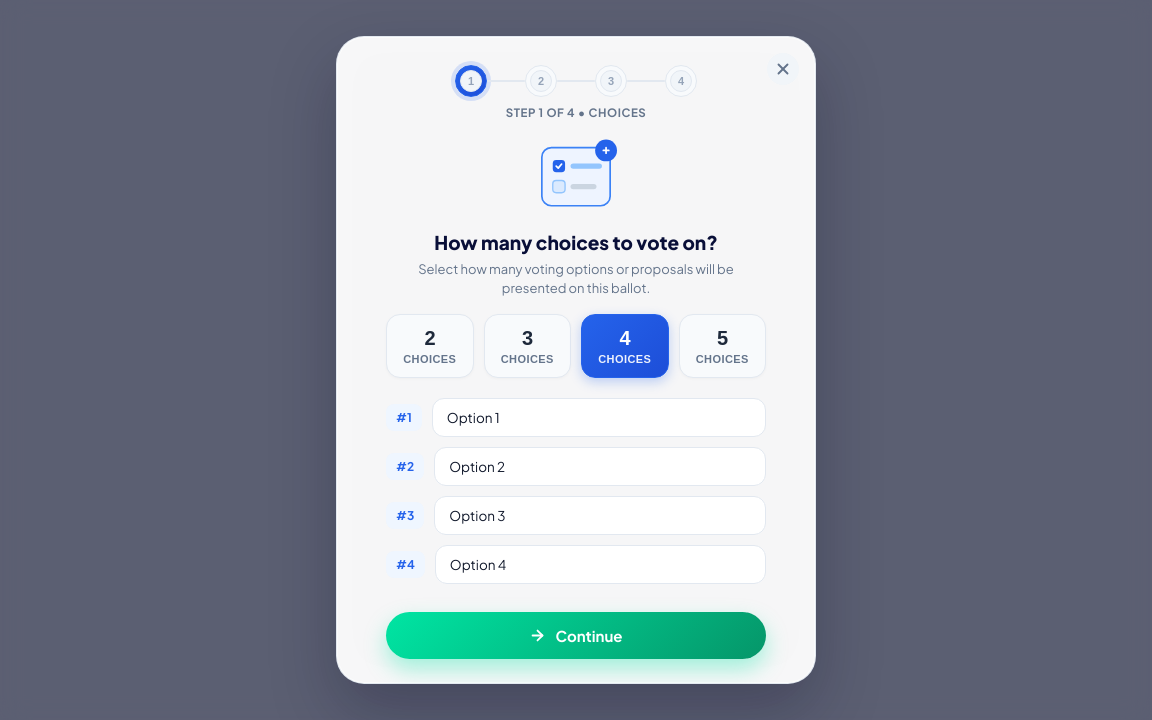
Test case: NewEventModal Component › navigates to Step 2 when clicking Continue
Click the button "Continue" at (576, 635), box top-left (386, 612), bottom-right (766, 659)
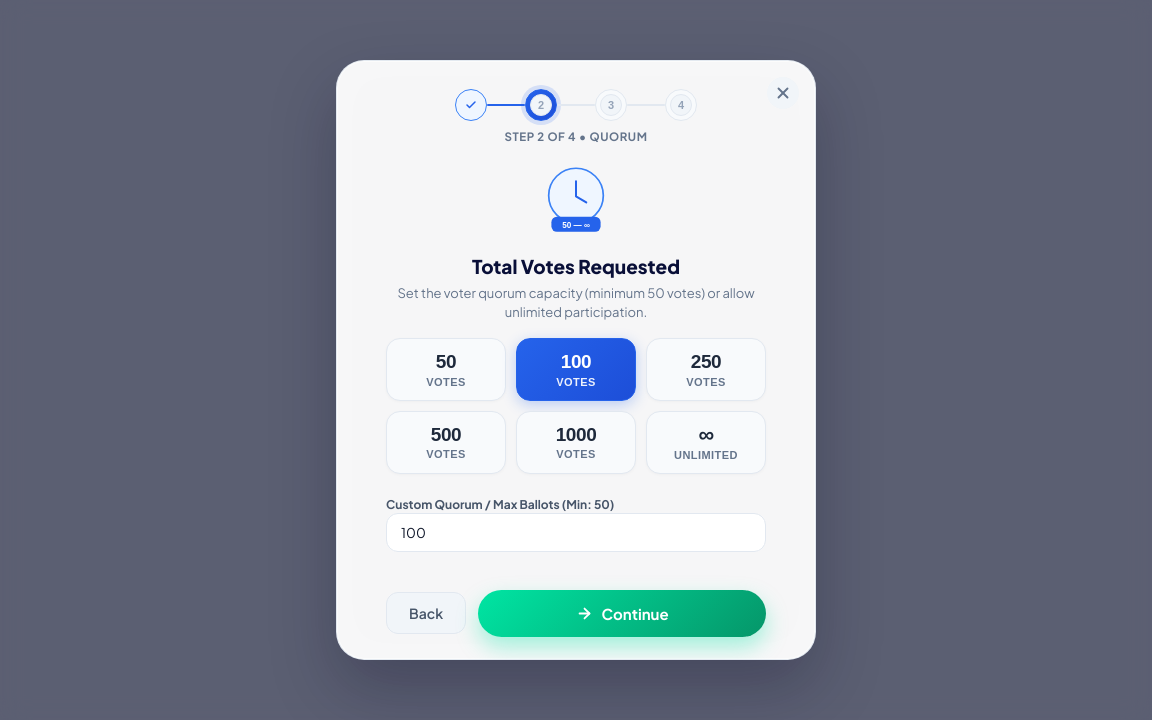
Expected: the heading "Total Votes Requested" is shown, top-left (472, 254), bottom-right (680, 278)
Expected: the text "Step 2 of 4 • Quorum" is shown, top-left (504, 129), bottom-right (648, 144)
Expected: the text "50" is shown, top-left (436, 351), bottom-right (456, 372)
